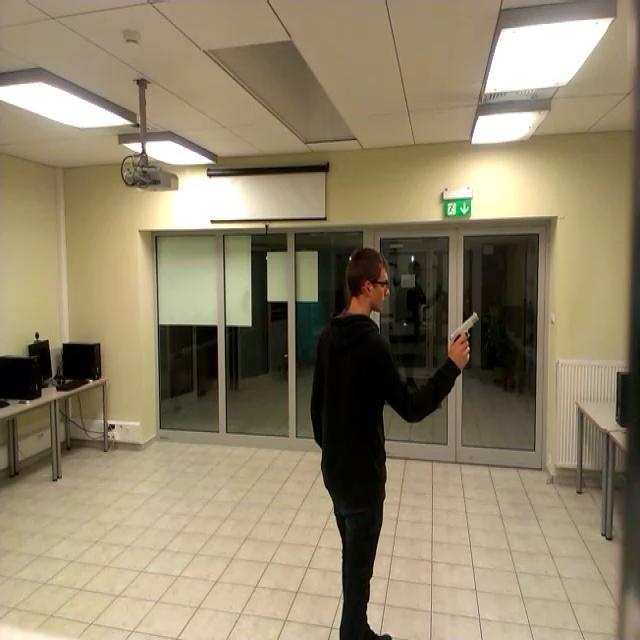Gun: (442, 297, 481, 351)
